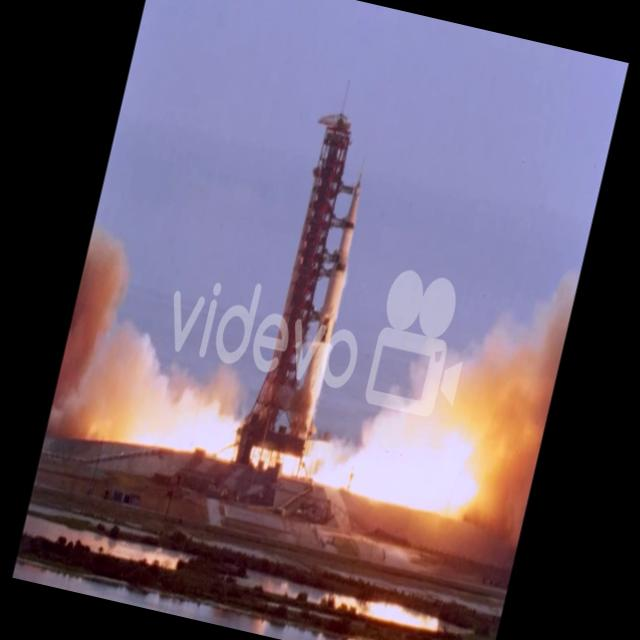rocket: (282, 176, 378, 477)
